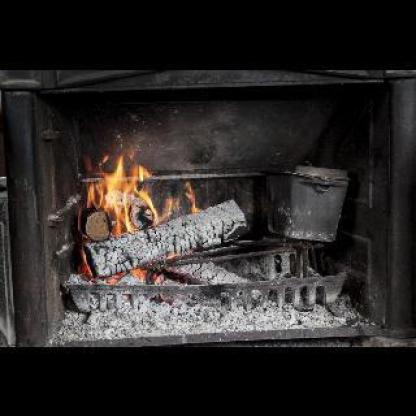fire: (74, 135, 205, 234)
